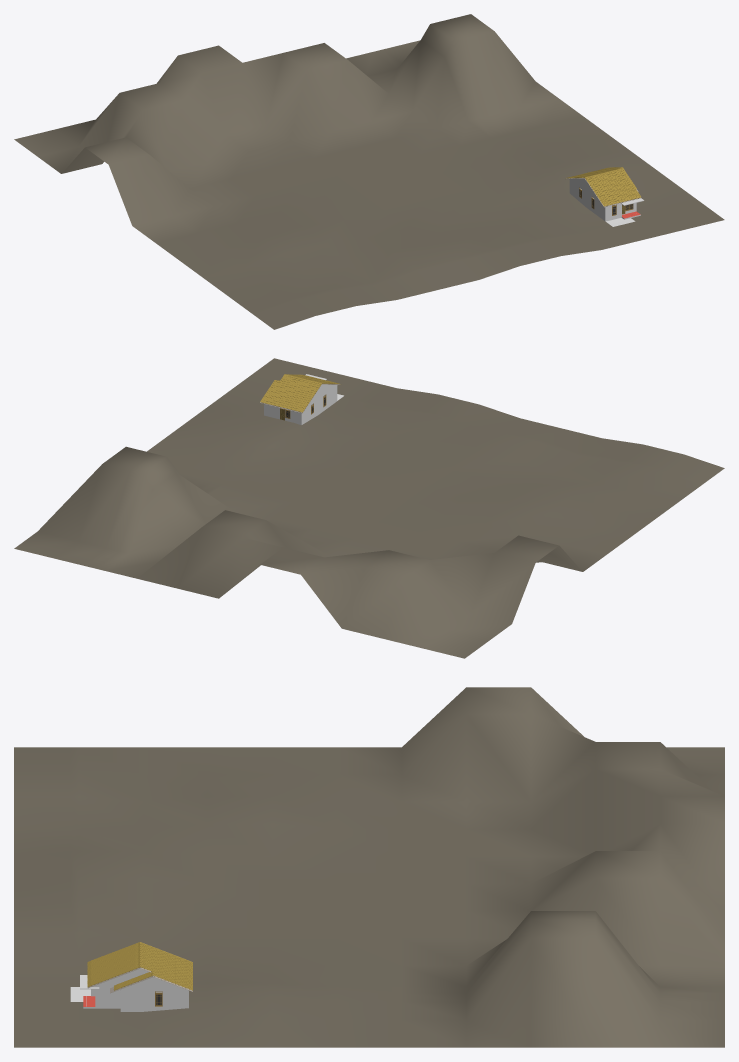
File: DesignRumah.fbx
The picture shows the model from 3 angles, top to bottom: view 1: azimuth 30°, elevation 25°; view 2: azimuth 150°, elevation 25°; view 3: azimuth 270°, elevation 25°; orthographic projection. The views are drawn at different scales.
Visible parts, largest first — view 1: Plane, gemteng, bangunan utama; view 2: Plane, Cube.040, bangunan utama; view 3: Plane, bangunan utama, gemteng, Cube.040, Cube.004.
Boxes of the visible parts, left/top/right/bottom form: Plane: left=14, top=14, right=724, bottom=329; gemteng: left=586, top=171, right=639, bottom=204; bangunan utama: left=569, top=180, right=644, bottom=221; Plane: left=14, top=358, right=724, bottom=658; Cube.040: left=261, top=381, right=316, bottom=410; bangunan utama: left=264, top=374, right=337, bottom=425; Plane: left=14, top=687, right=724, bottom=1047; bangunan utama: left=80, top=975, right=188, bottom=1011; gemteng: left=91, top=944, right=136, bottom=985; Cube.040: left=155, top=948, right=189, bottom=988; Cube.004: left=91, top=968, right=187, bottom=990.
Bounding box in the file's own units: 8419 × 1073 × 8419.
